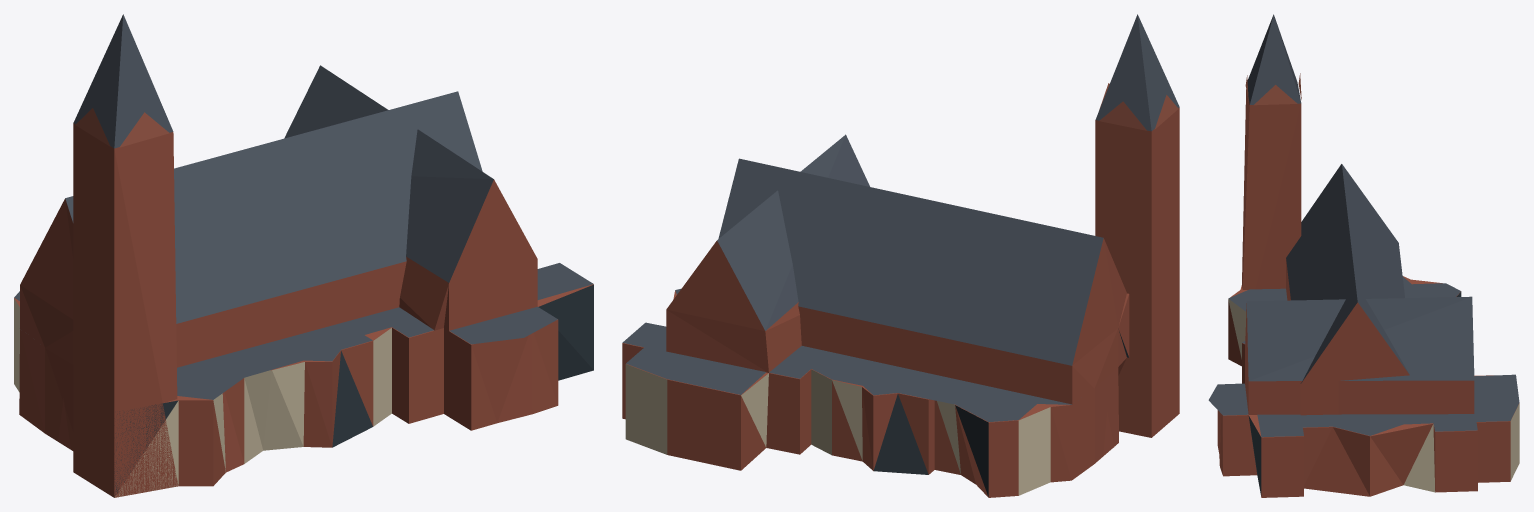
The model's file is vredeskerk.lod2.glb.
3 views of the same model, side by side, from view 1: azimuth 30°, elevation 25°; view 2: azimuth 150°, elevation 25°; view 3: azimuth 270°, elevation 25° (orthographic). The views are drawn at different scales.
Parts seen in each view (by area): view 1: lod2; view 2: lod2; view 3: lod2.
Part boxes in pixels (left/top/right/bottom): lod2: left=14, top=14, right=593, bottom=497; lod2: left=622, top=14, right=1179, bottom=497; lod2: left=1208, top=14, right=1519, bottom=497.
Bounding box in the file's own units: 54.92 × 49 × 42.45.
